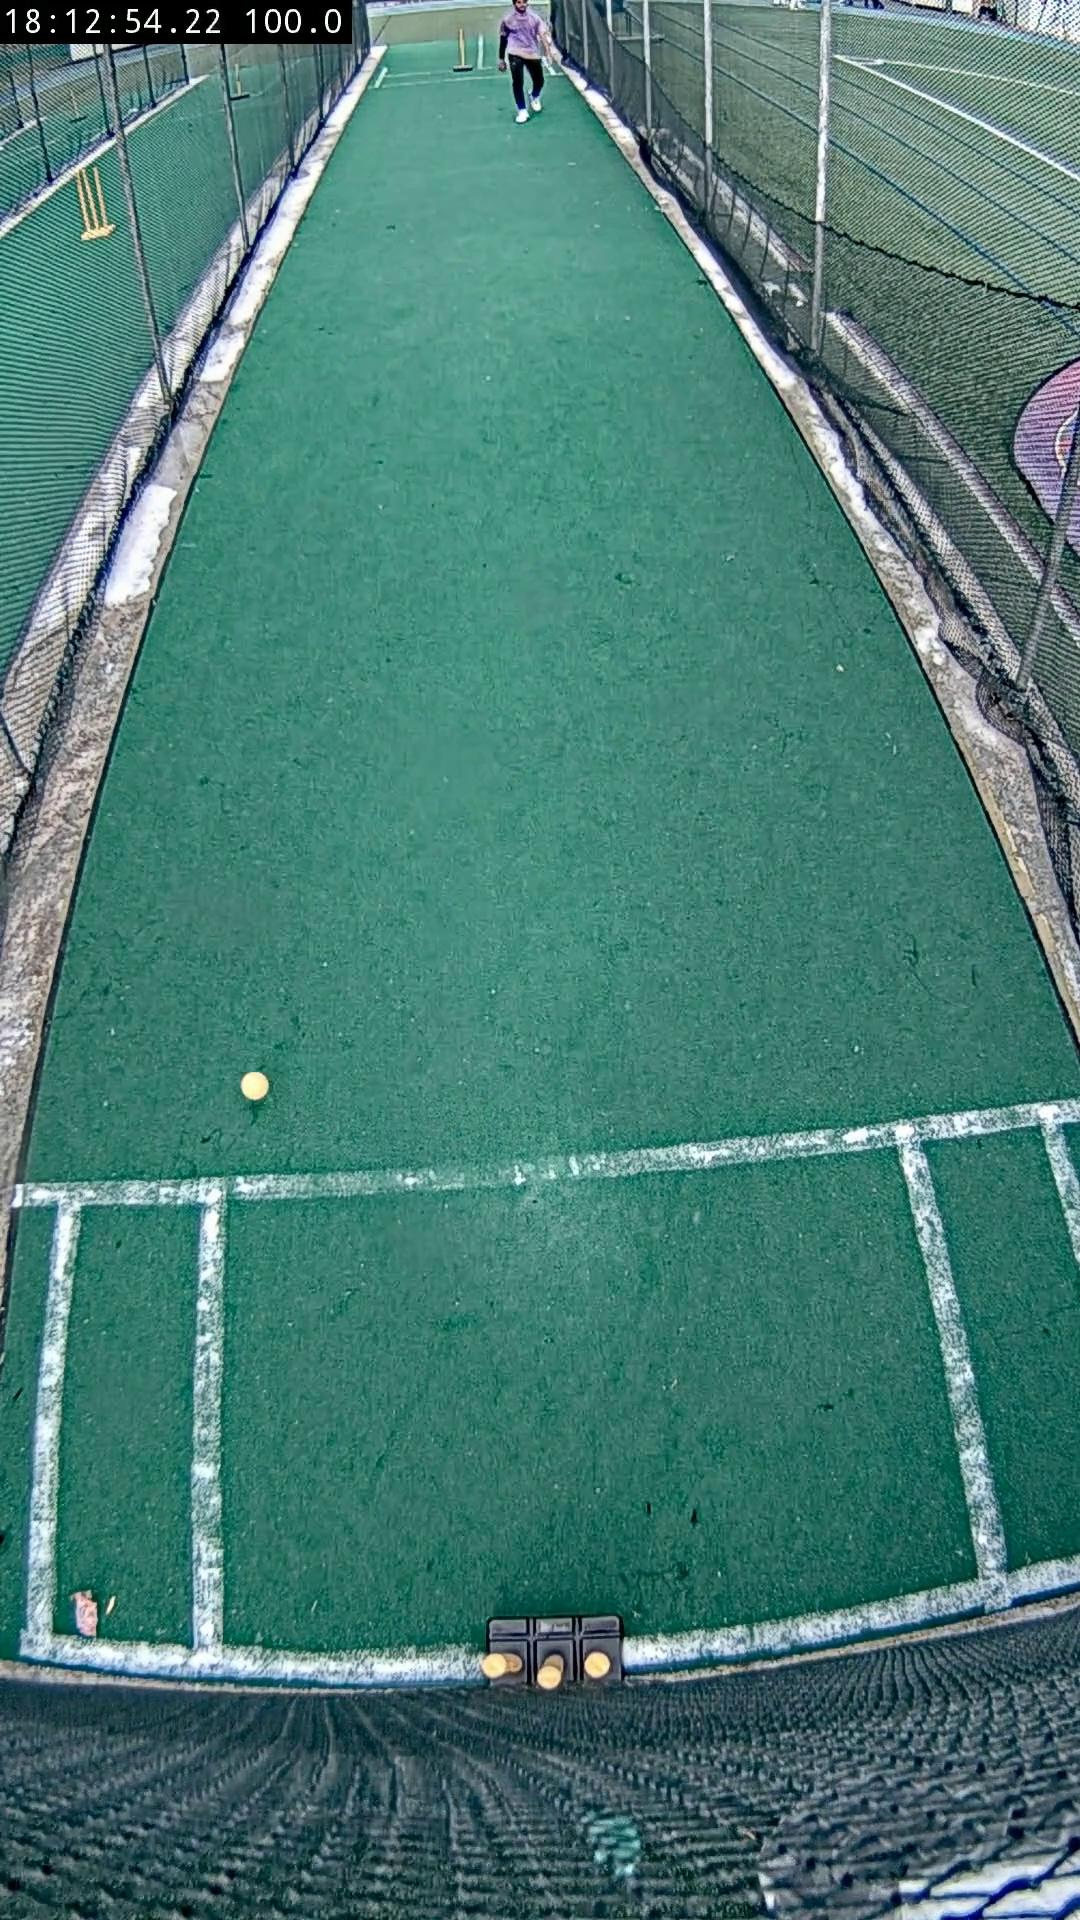ball: (240, 1072, 270, 1102)
stumps: (480, 1617, 622, 1689)
